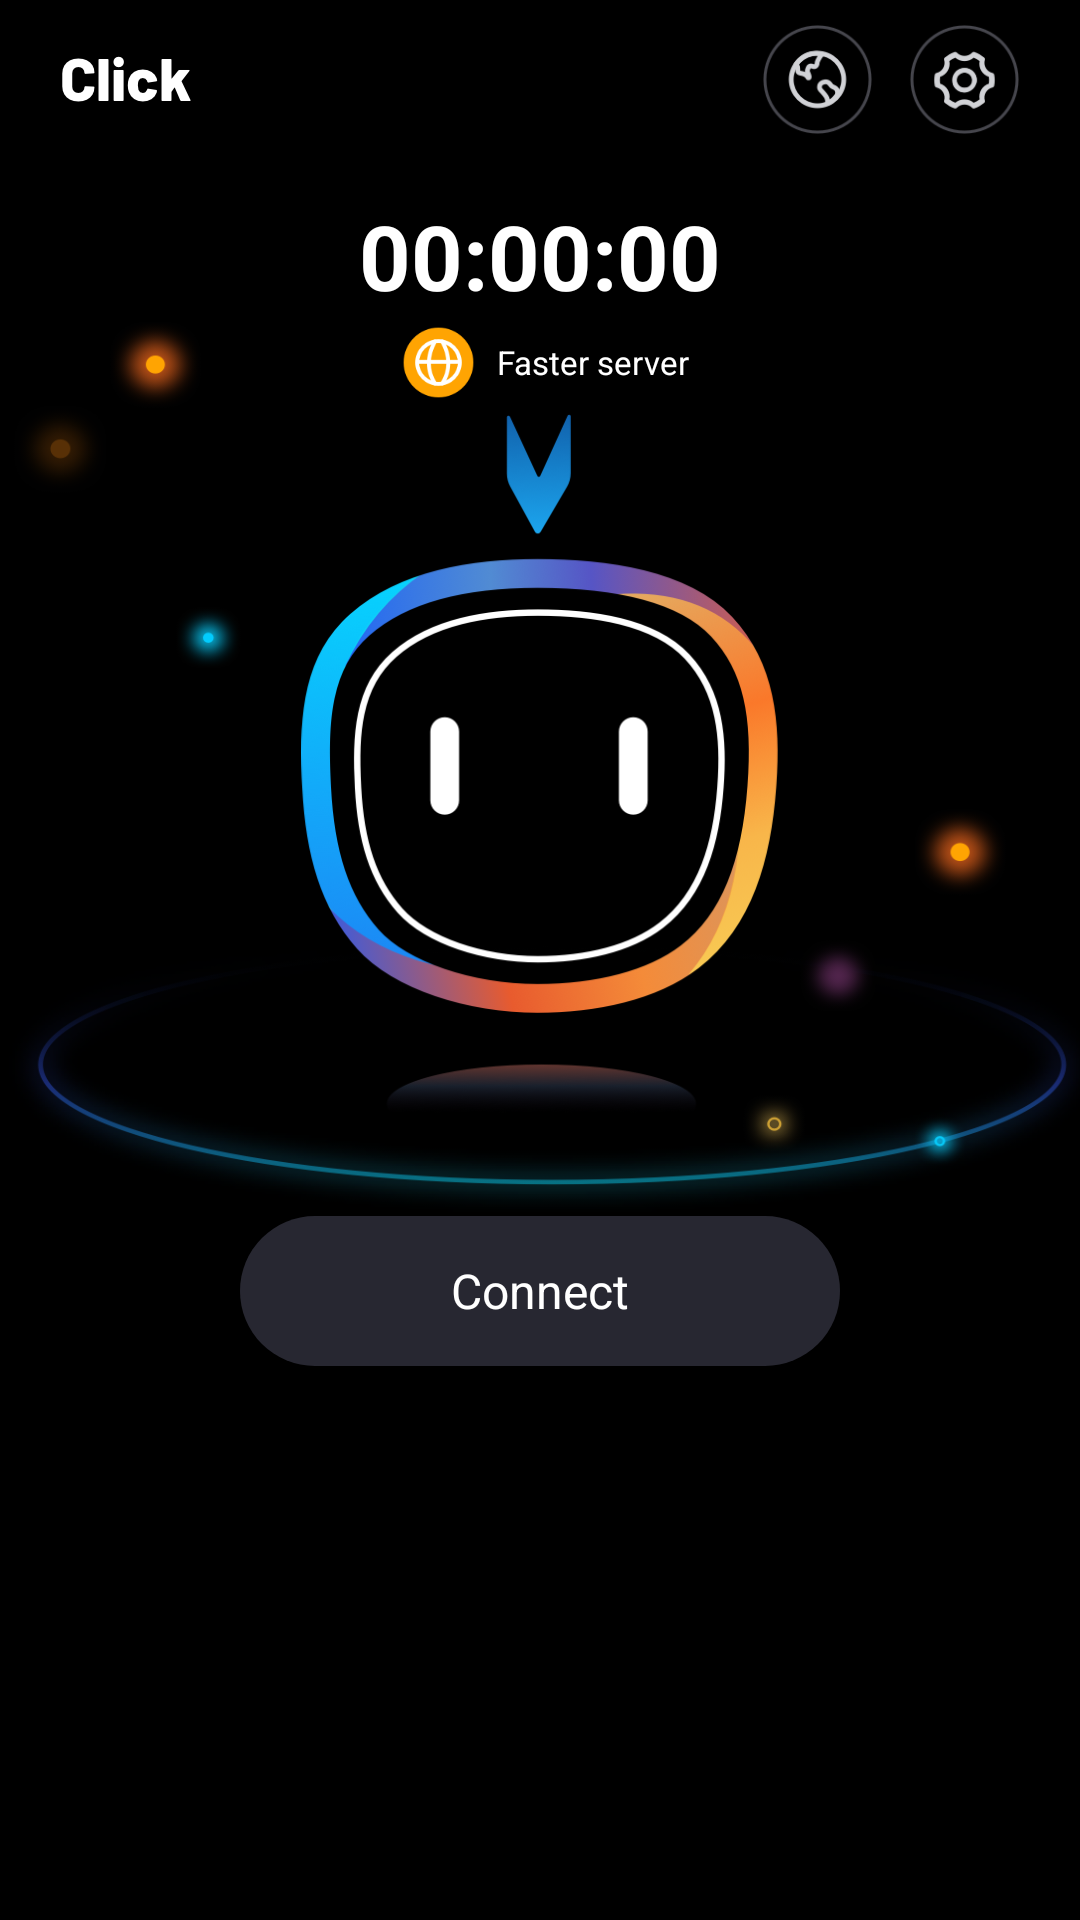

Locate icon controls on the screen. Image size 1080px×1920px, boxes as (x1, y1, x2, y2).
home choose server: (763, 25, 872, 134)
home set: (910, 25, 1019, 134)
server flag: (403, 327, 474, 398)
